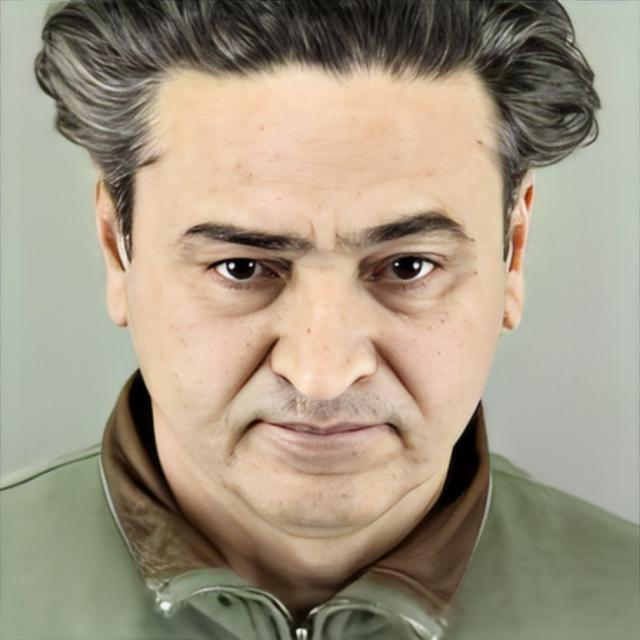anger: (130, 44, 500, 528)
